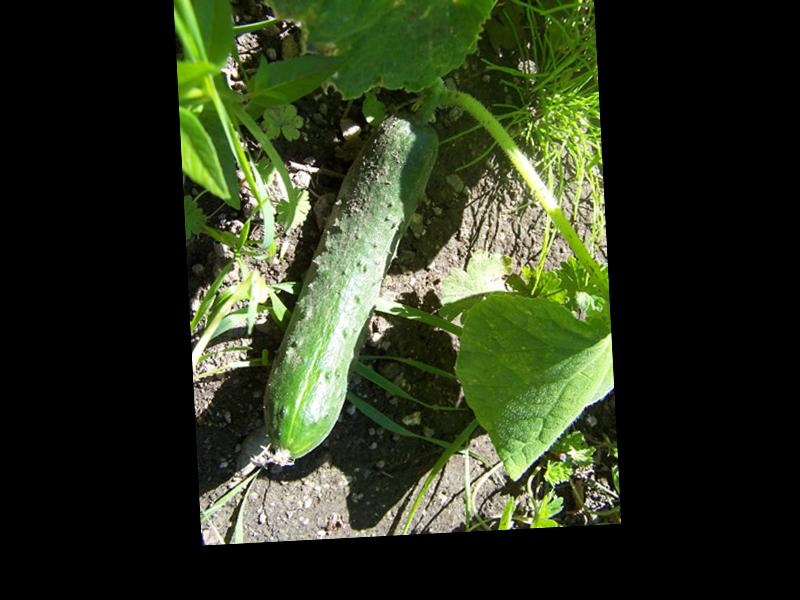Cucumber: (247, 107, 455, 465)
